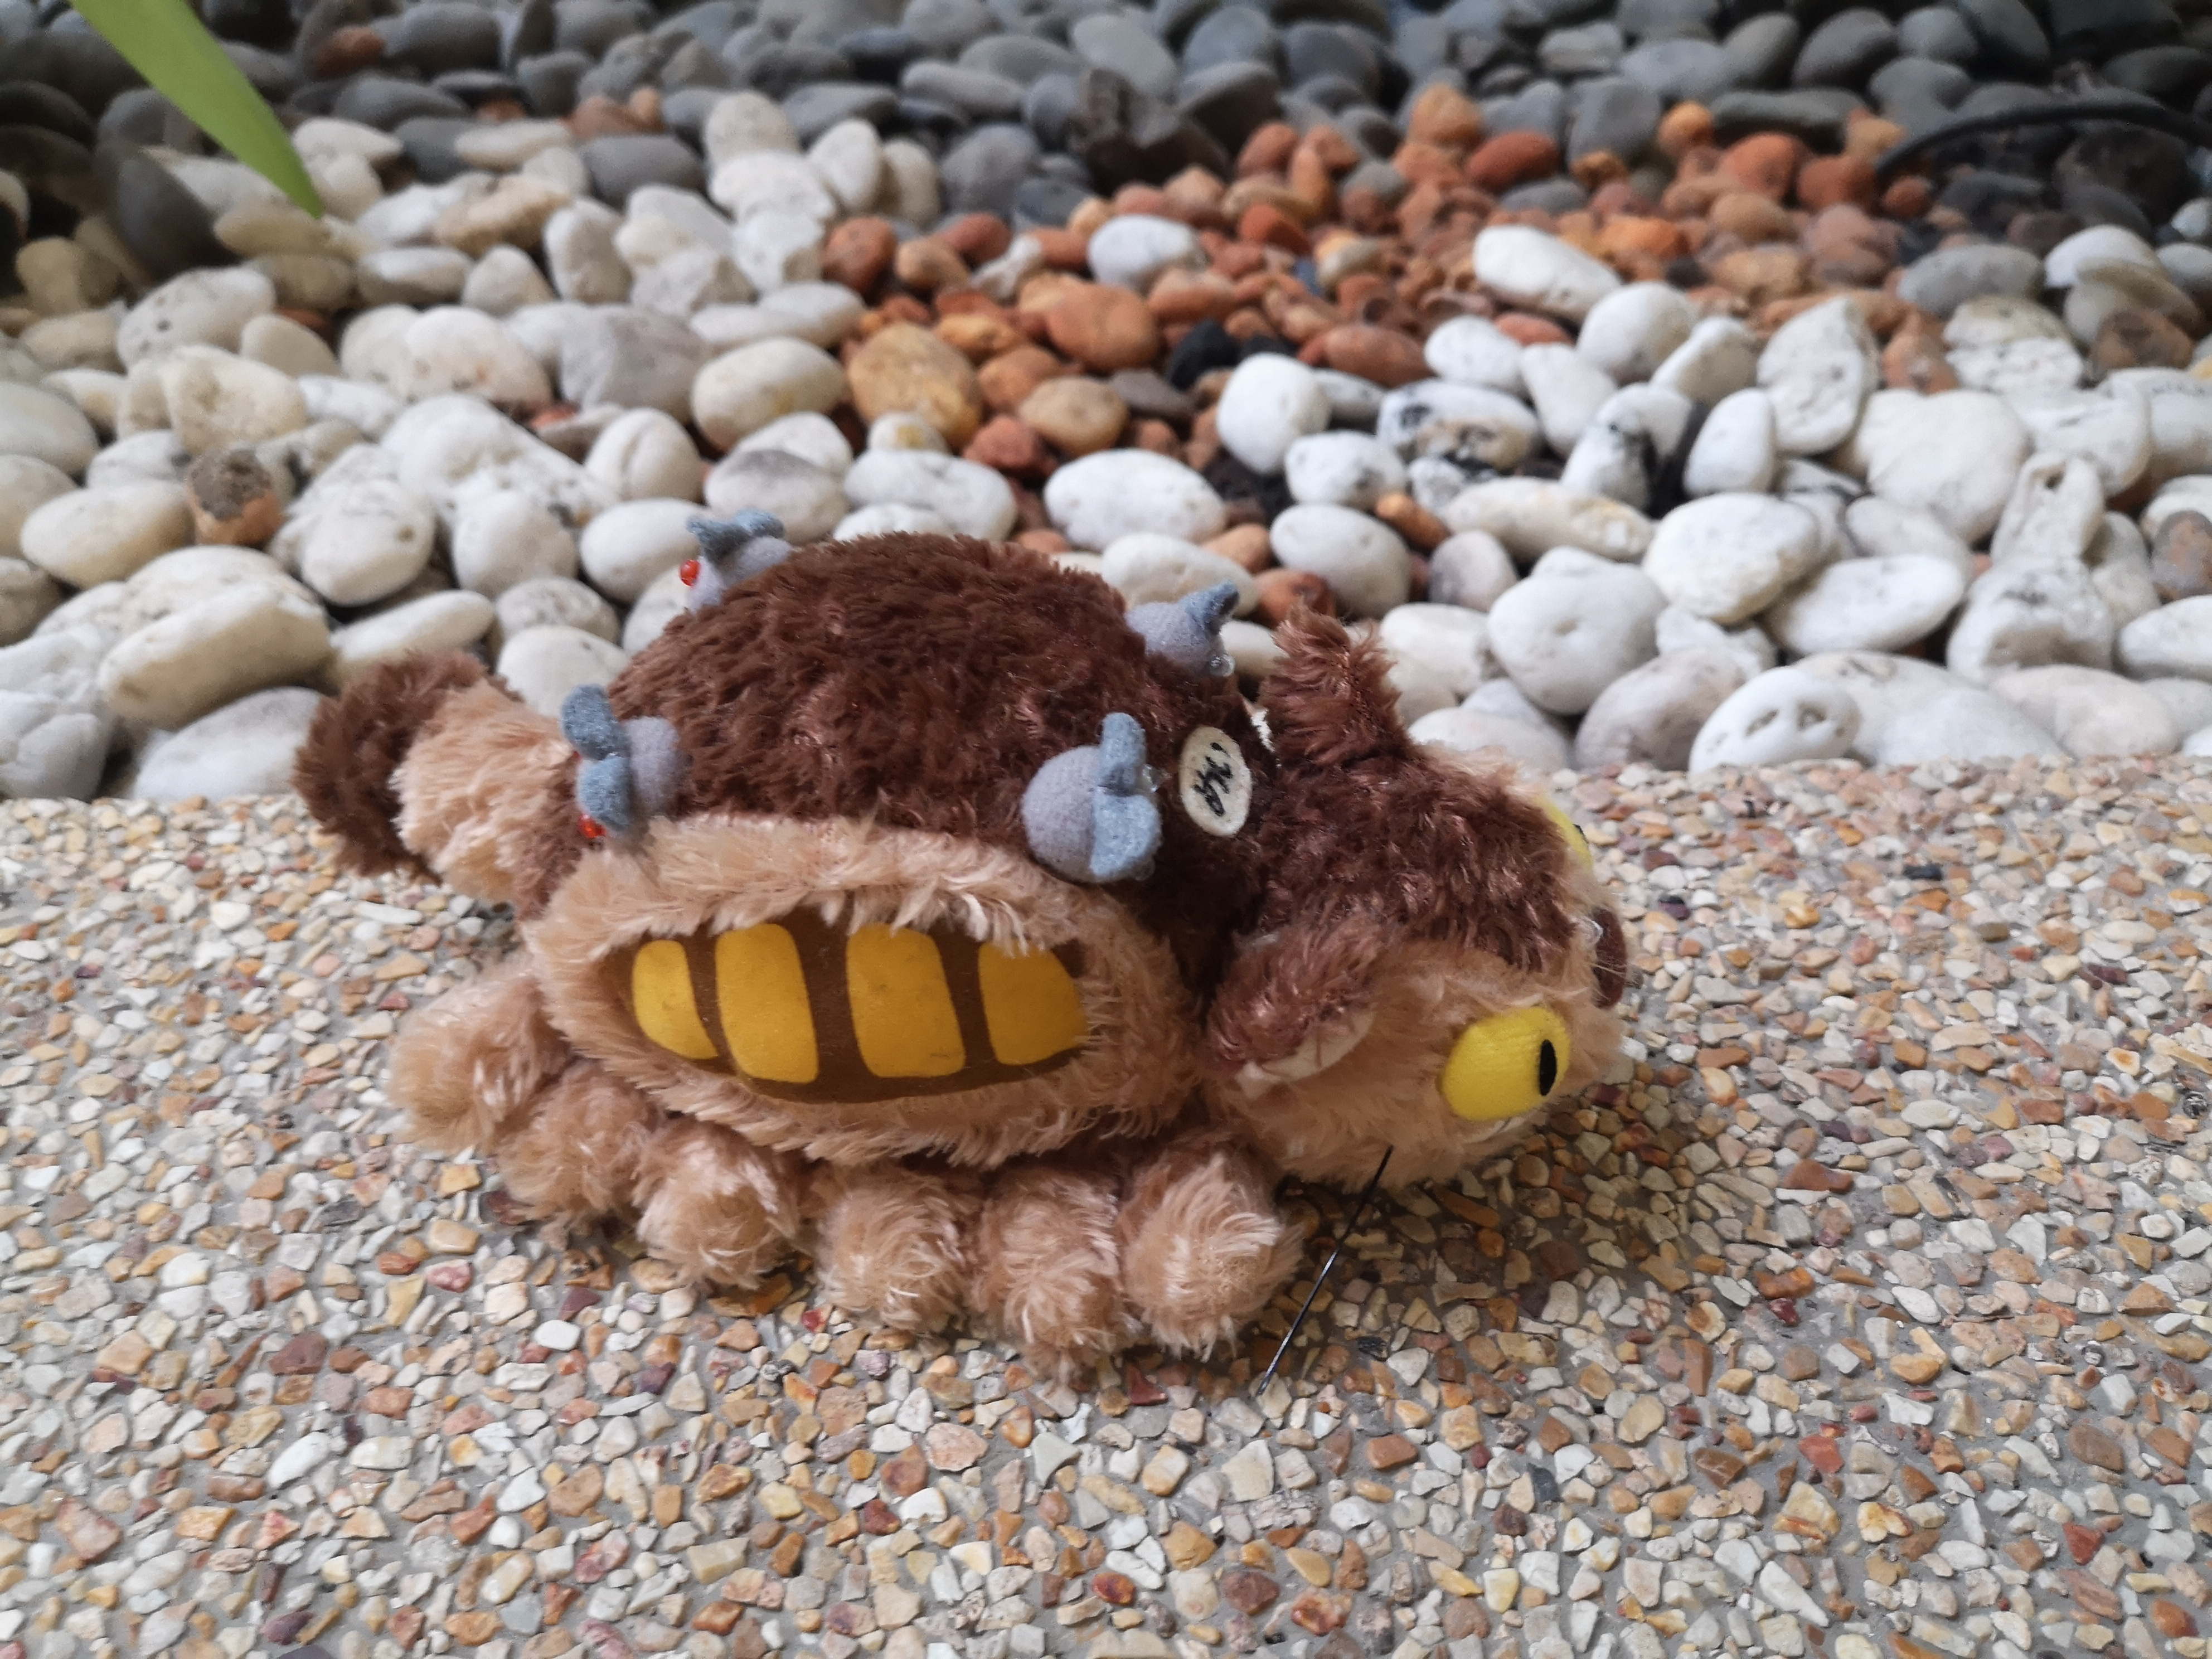nekobus: (280, 516, 1658, 1408)
